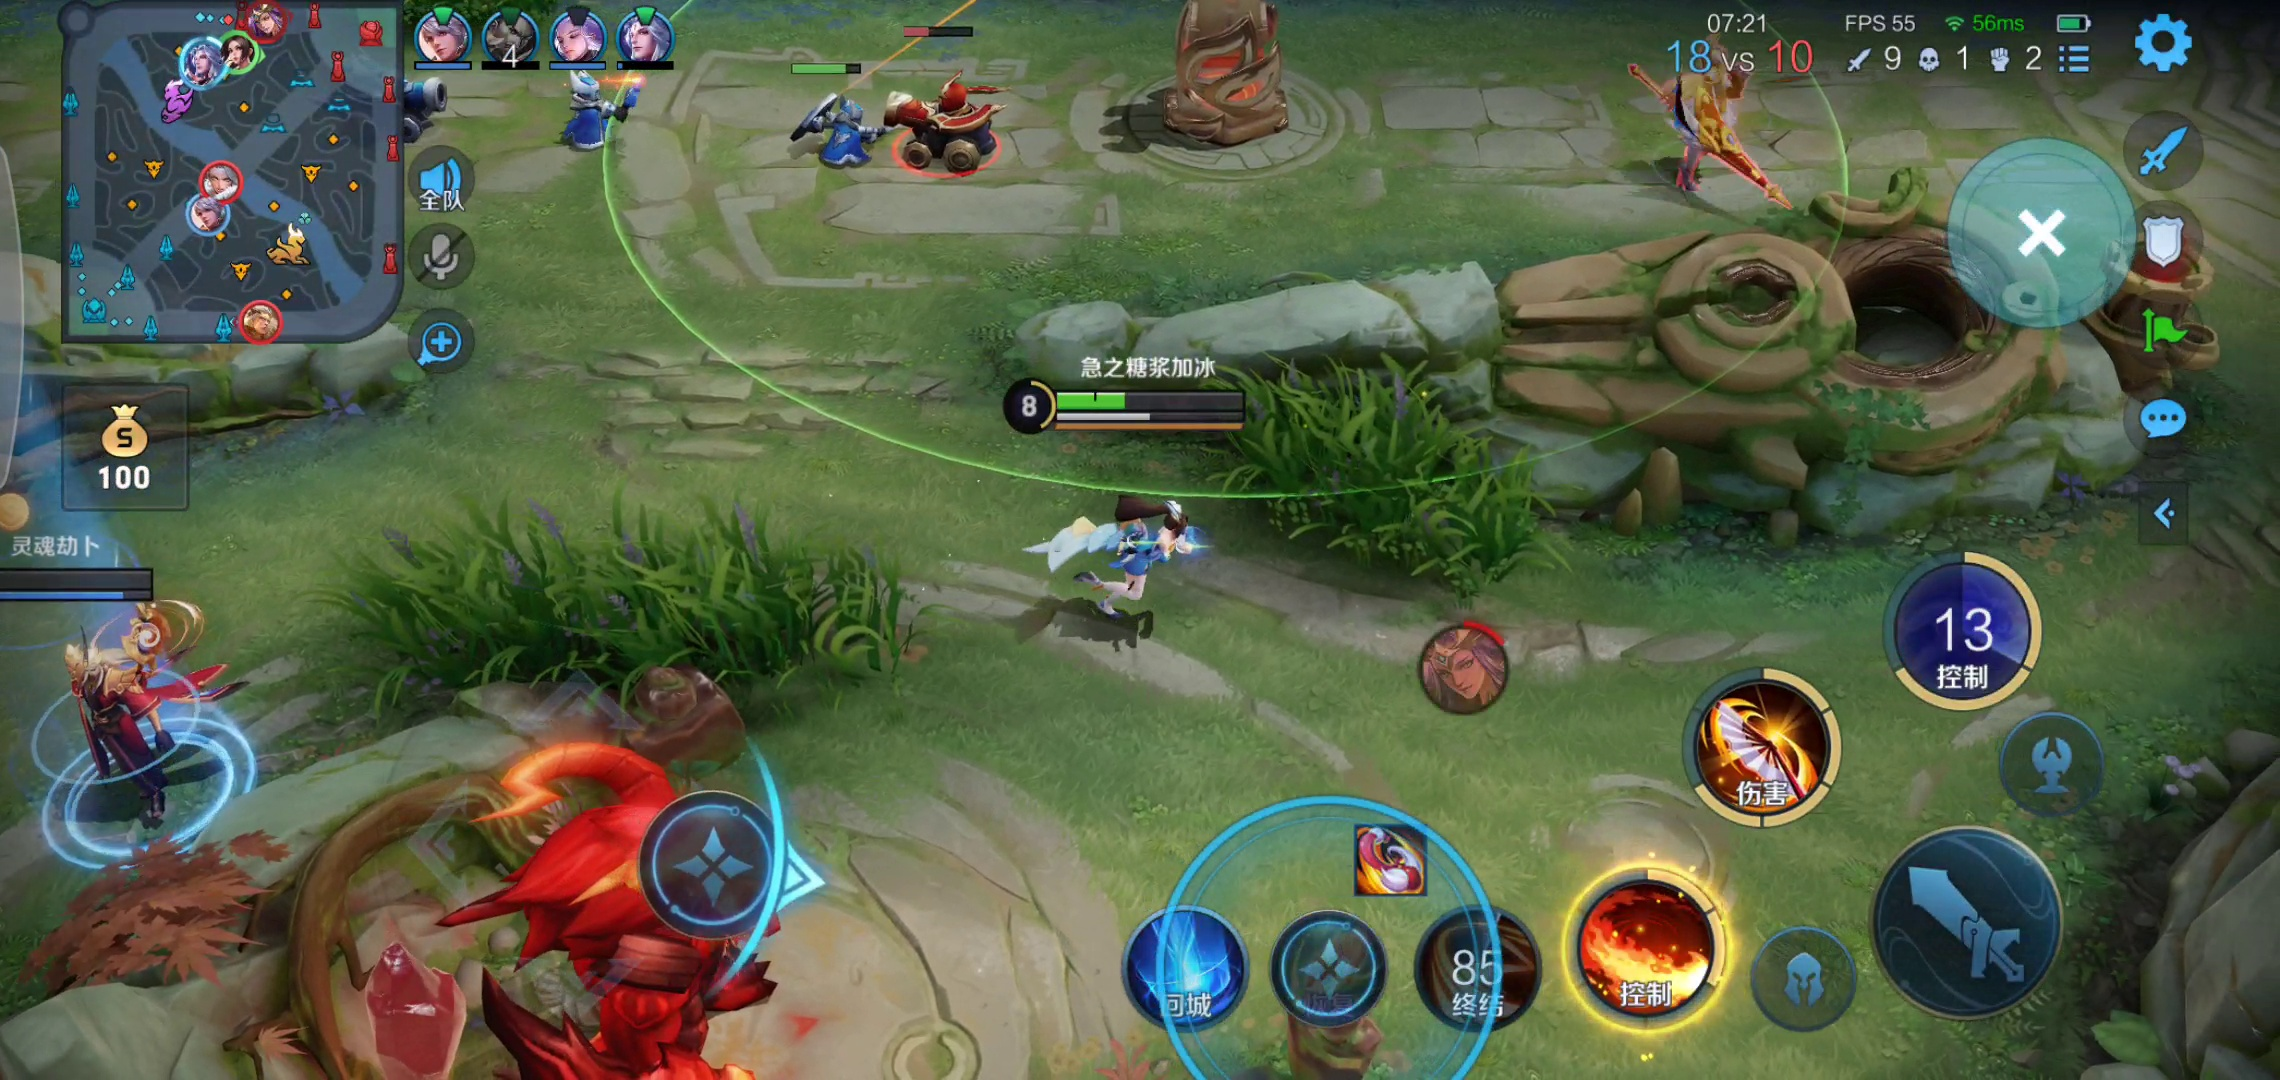buff: (425, 746, 836, 1079)
grass: (334, 517, 910, 693), (1198, 359, 1533, 584)
hero: (20, 625, 260, 843), (1618, 39, 1813, 218), (1034, 481, 1205, 637)
soldier: (890, 68, 1000, 172), (782, 77, 875, 180), (551, 70, 643, 156), (375, 77, 483, 137)
tower: (1157, 1, 1310, 151)
